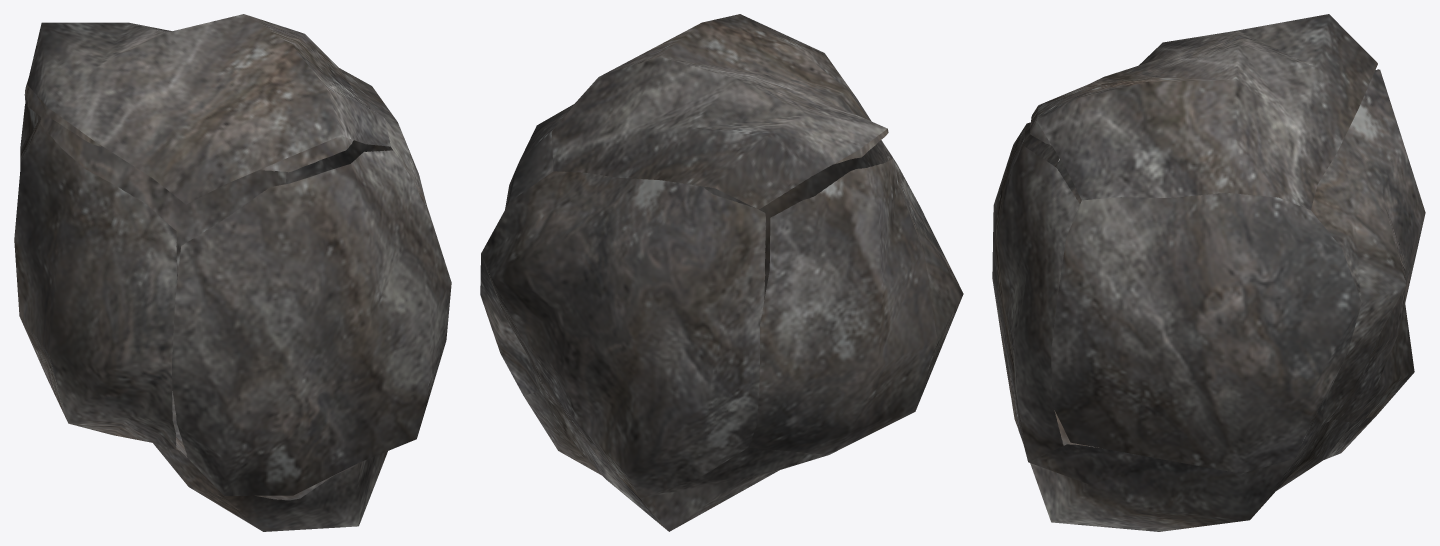
The model's file is Rock7.FBX.
3 views of the same model, side by side, from view 1: azimuth 30°, elevation 25°; view 2: azimuth 150°, elevation 25°; view 3: azimuth 270°, elevation 25° (orthographic). The views are drawn at different scales.
Visible parts, largest first — view 1: rockLP001; view 2: rockLP001; view 3: rockLP001.
Boxes of the visible parts, left/top/right/bottom form: rockLP001: left=14, top=14, right=451, bottom=531; rockLP001: left=480, top=14, right=963, bottom=531; rockLP001: left=992, top=14, right=1425, bottom=531.
Bounding box in the file's own units: 2.33 × 2.59 × 2.32.
1 material, 1 textured.
